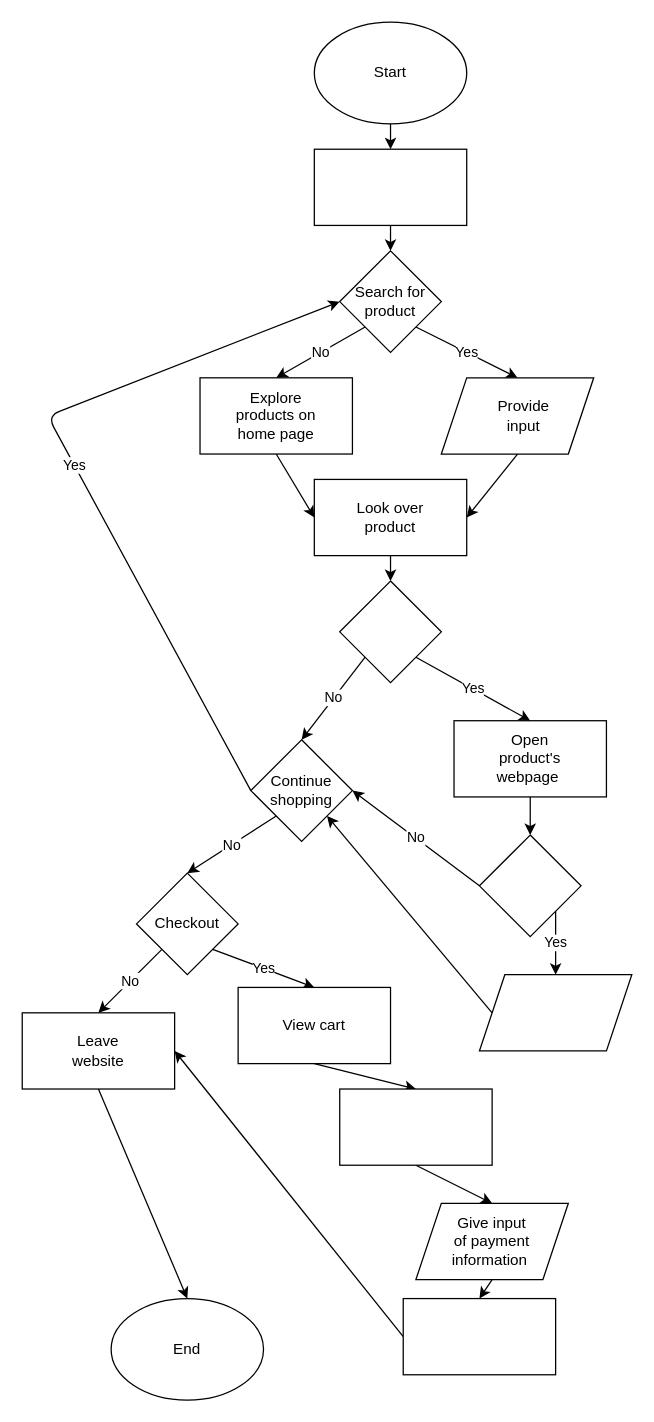
Image size: 654x1422. Some labels were removed from this diagram. Here are the shapes that lost their labels. From the top down, the centre of each, then its label:
the point at 390,186: Enter website
the point at 389,631: View specific product
the point at 529,885: Add to cart
the point at 555,1012: Add to cart confirmed
the point at 415,1126: View payment
the point at 479,1336: Order confirmation and receive email
